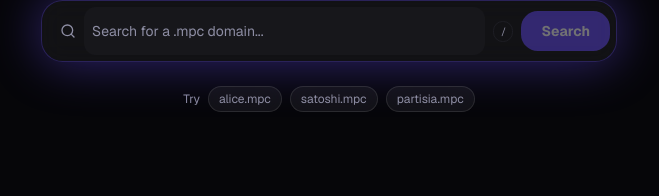
Test: DomainSearch › Validation › allows 1-letter domain search
In the field with placeholder "Search for a .mpc domain...": (285, 31) 84,7 -> 486,55, type "a"
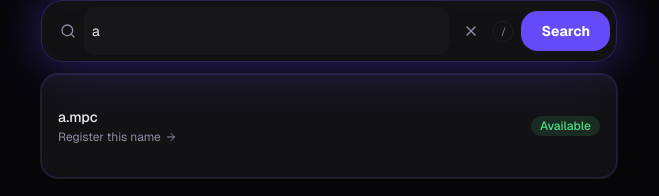
Check: the text "Available" is shown, box 531,116 -> 600,136
